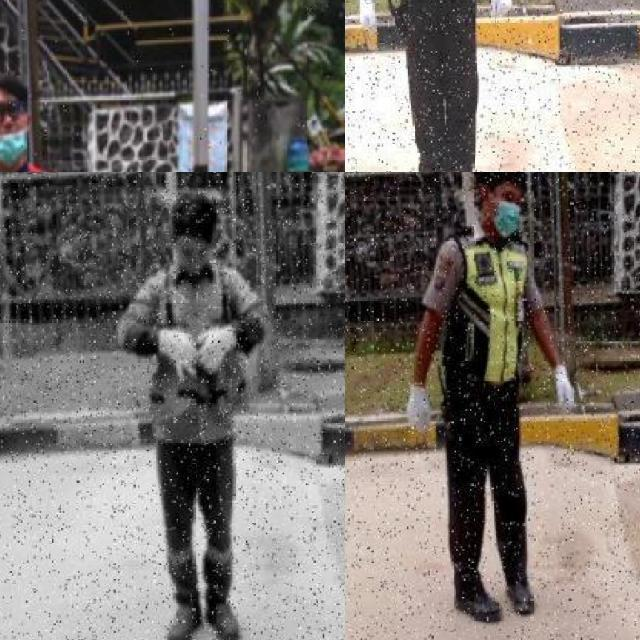apron: (154, 323, 205, 386), (192, 320, 240, 380), (402, 380, 436, 434), (549, 360, 577, 416), (355, 0, 380, 36), (487, 0, 516, 18)
